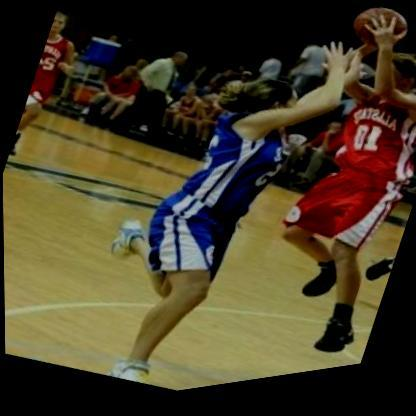basketball: (340, 0, 414, 74)
